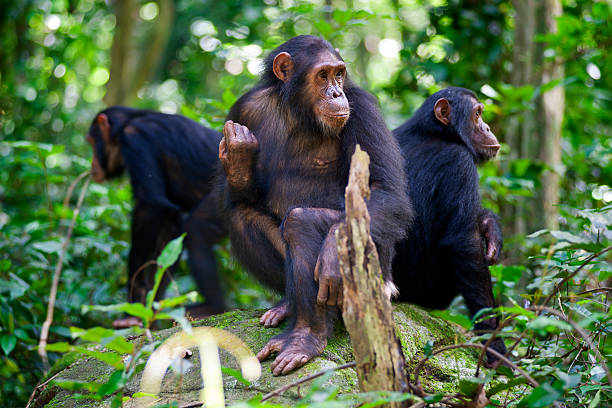chimpanzee: (254, 10, 372, 150), (431, 73, 504, 174)
